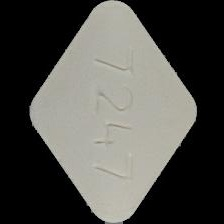54868-6325: (0, 0, 224, 224)
